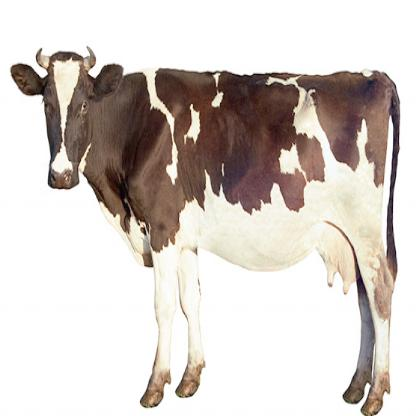Cow: (12, 35, 412, 415)
